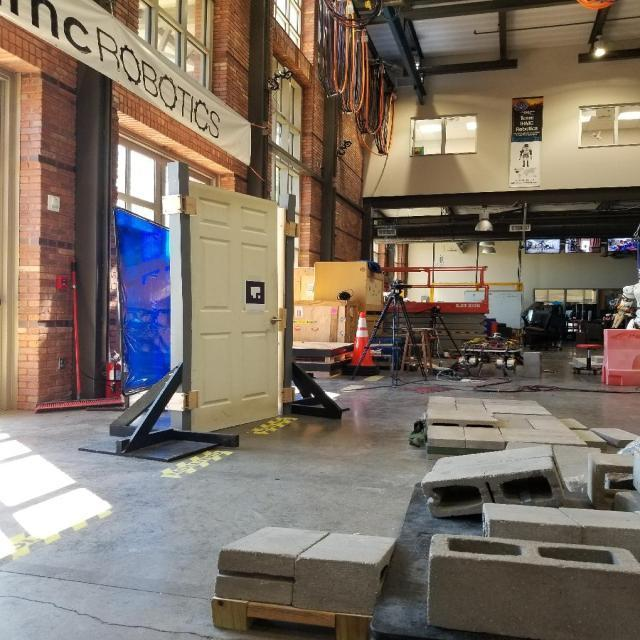door: (183, 178, 279, 436), (268, 316, 282, 328)
